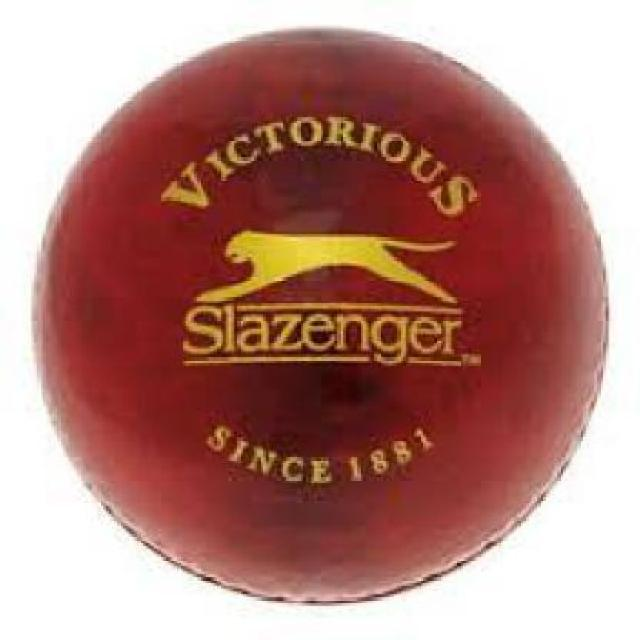Cricket ball: (21, 17, 628, 619)
